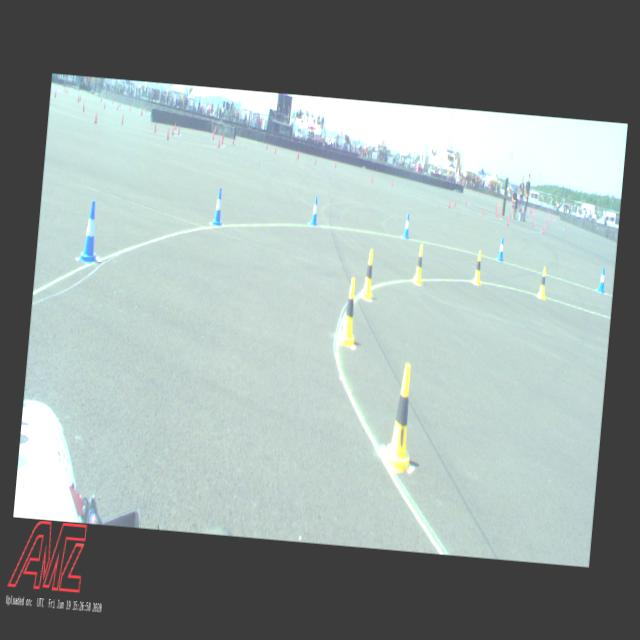blue_cone: (77, 200, 102, 262), (210, 187, 224, 225), (309, 197, 319, 226), (597, 267, 606, 293), (402, 213, 411, 238), (497, 237, 505, 261)
yellow_cone: (380, 361, 420, 474), (336, 277, 359, 346), (360, 248, 376, 300), (412, 243, 426, 285), (471, 250, 483, 286), (536, 266, 548, 298)
